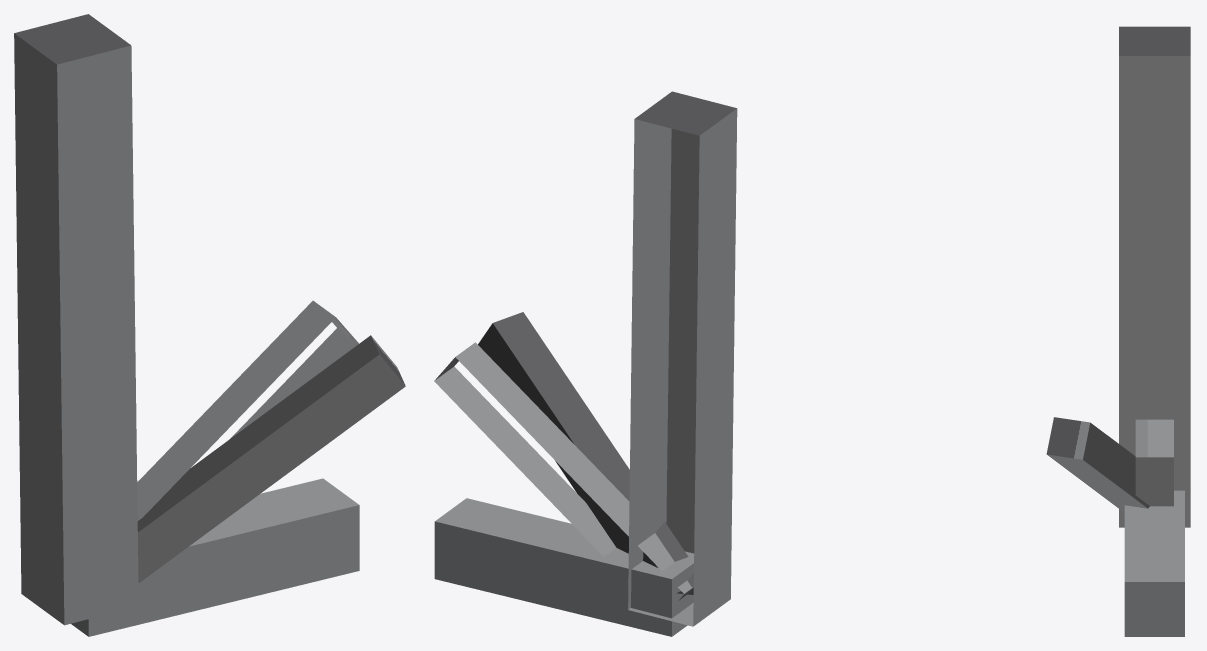
The picture shows the model from 3 angles, left to right: view 1: azimuth 30°, elevation 25°; view 2: azimuth 150°, elevation 25°; view 3: azimuth 270°, elevation 25°; orthographic projection. The views are drawn at different scales.
Bounding box in the file's own units: 0.2791 × 0.5 × 0.2776.
